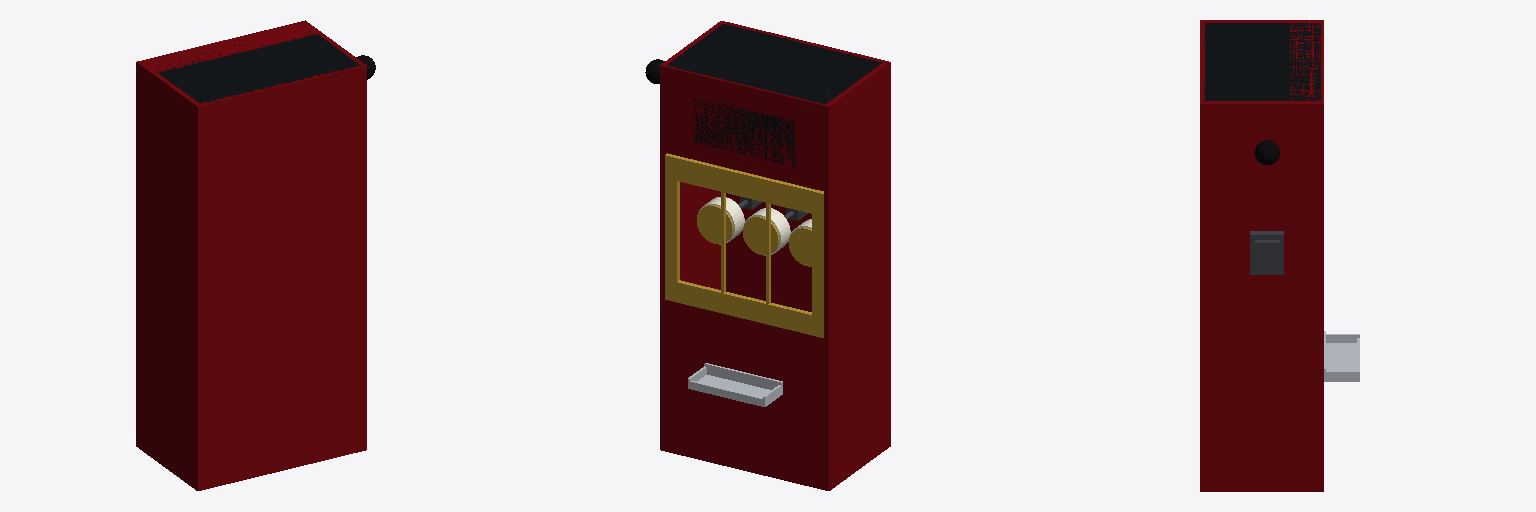
The robot description file, URDF, robot "casino_slot_machine":
<robot name="casino_slot_machine">
  <material name="cabinet_red">
    <color rgba="0.49 0.05 0.08 1" />
    </material>
  <material name="cabinet_black">
    <color rgba="0.09 0.1 0.11 1" />
    </material>
  <material name="brass_trim">
    <color rgba="0.76 0.62 0.22 1" />
    </material>
  <material name="chrome">
    <color rgba="0.77 0.79 0.82 1" />
    </material>
  <material name="dark_steel">
    <color rgba="0.28 0.29 0.31 1" />
    </material>
  <material name="reel_cream">
    <color rgba="0.93 0.92 0.86 1" />
    </material>
  <material name="knob_black">
    <color rgba="0.08 0.08 0.08 1" />
    </material>
  <link name="cabinet">
    <inertial>
      <origin xyz="0 0 0.76" rpy="0 0 0" />
      <mass value="110" />
      <inertia ixx="22.9533" ixy="0" ixz="0" iyy="25.6703" iyz="0" izz="6.26633" />
      </inertial>
    <visual name="left_side_panel">
      <origin xyz="-0.34 0 0.76" rpy="0 0 0" />
      <geometry>
        <box size="0.02 0.44 1.52" />
        </geometry>
      <material name="cabinet_red">
        <color rgba="0.49 0.05 0.08 1" />
        </material>
      </visual>
    <visual name="right_side_panel">
      <origin xyz="0.34 0 0.76" rpy="0 0 0" />
      <geometry>
        <box size="0.02 0.44 1.52" />
        </geometry>
      <material name="cabinet_red">
        <color rgba="0.49 0.05 0.08 1" />
        </material>
      </visual>
    <visual name="back_panel">
      <origin xyz="0 -0.21 0.76" rpy="0 0 0" />
      <geometry>
        <box size="0.66 0.02 1.52" />
        </geometry>
      <material name="cabinet_red">
        <color rgba="0.49 0.05 0.08 1" />
        </material>
      </visual>
    <visual name="bottom_panel">
      <origin xyz="0 0 0.01" rpy="0 0 0" />
      <geometry>
        <box size="0.66 0.4 0.02" />
        </geometry>
      <material name="cabinet_black">
        <color rgba="0.09 0.1 0.11 1" />
        </material>
      </visual>
    <visual name="roof_panel">
      <origin xyz="0 0 1.51" rpy="0 0 0" />
      <geometry>
        <box size="0.66 0.42 0.02" />
        </geometry>
      <material name="cabinet_black">
        <color rgba="0.09 0.1 0.11 1" />
        </material>
      </visual>
    <visual name="front_lower_panel">
      <origin xyz="0 0.21 0.3" rpy="0 0 0" />
      <geometry>
        <box size="0.66 0.02 0.6" />
        </geometry>
      <material name="cabinet_red">
        <color rgba="0.49 0.05 0.08 1" />
        </material>
      </visual>
    <visual name="window_sill">
      <origin xyz="0 0.21 0.64" rpy="0 0 0" />
      <geometry>
        <box size="0.66 0.02 0.08" />
        </geometry>
      <material name="brass_trim">
        <color rgba="0.76 0.62 0.22 1" />
        </material>
      </visual>
    <visual name="left_jamb">
      <origin xyz="-0.305 0.21 0.88" rpy="0 0 0" />
      <geometry>
        <box size="0.05 0.02 0.4" />
        </geometry>
      <material name="brass_trim">
        <color rgba="0.76 0.62 0.22 1" />
        </material>
      </visual>
    <visual name="right_jamb">
      <origin xyz="0.305 0.21 0.88" rpy="0 0 0" />
      <geometry>
        <box size="0.05 0.02 0.4" />
        </geometry>
      <material name="brass_trim">
        <color rgba="0.76 0.62 0.22 1" />
        </material>
      </visual>
    <visual name="separator_left">
      <origin xyz="-0.093 0.208 0.88" rpy="0 0 0" />
      <geometry>
        <box size="0.014 0.016 0.4" />
        </geometry>
      <material name="brass_trim">
        <color rgba="0.76 0.62 0.22 1" />
        </material>
      </visual>
    <visual name="separator_right">
      <origin xyz="0.093 0.208 0.88" rpy="0 0 0" />
      <geometry>
        <box size="0.014 0.016 0.4" />
        </geometry>
      <material name="brass_trim">
        <color rgba="0.76 0.62 0.22 1" />
        </material>
      </visual>
    <visual name="window_brow">
      <origin xyz="0 0.21 1.125" rpy="0 0 0" />
      <geometry>
        <box size="0.66 0.02 0.09" />
        </geometry>
      <material name="brass_trim">
        <color rgba="0.76 0.62 0.22 1" />
        </material>
      </visual>
    <visual name="upper_front_marquee">
      <origin xyz="0 0.16 1.35" rpy="0 0 0" />
      <geometry>
        <box size="0.66 0.12 0.34" />
        </geometry>
      <material name="cabinet_red">
        <color rgba="0.49 0.05 0.08 1" />
        </material>
      </visual>
    <visual name="marquee_panel">
      <origin xyz="0 0.214 1.34" rpy="0 0 0" />
      <geometry>
        <box size="0.42 0.012 0.18" />
        </geometry>
      <material name="cabinet_black">
        <color rgba="0.09 0.1 0.11 1" />
        </material>
      </visual>
    <visual name="handle_mount_pad">
      <origin xyz="0.364 0.02 0.94" rpy="0 0 0" />
      <geometry>
        <box size="0.028 0.12 0.16" />
        </geometry>
      <material name="dark_steel">
        <color rgba="0.28 0.29 0.31 1" />
        </material>
      </visual>
    <visual name="left_reel_bearing">
      <origin xyz="-0.19 -0.16 0.88" rpy="0 0 0" />
      <geometry>
        <box size="0.05 0.08 0.05" />
        </geometry>
      <material name="dark_steel">
        <color rgba="0.28 0.29 0.31 1" />
        </material>
      </visual>
    <visual name="center_reel_bearing">
      <origin xyz="0 -0.16 0.88" rpy="0 0 0" />
      <geometry>
        <box size="0.05 0.08 0.05" />
        </geometry>
      <material name="dark_steel">
        <color rgba="0.28 0.29 0.31 1" />
        </material>
      </visual>
    <visual name="right_reel_bearing">
      <origin xyz="0.19 -0.16 0.88" rpy="0 0 0" />
      <geometry>
        <box size="0.05 0.08 0.05" />
        </geometry>
      <material name="dark_steel">
        <color rgba="0.28 0.29 0.31 1" />
        </material>
      </visual>
    </link>
  <link name="coin_tray">
    <inertial>
      <origin xyz="0 0.055 0.025" rpy="0 0 0" />
      <mass value="2.5" />
      <inertia ixx="0.00427083" ixy="0" ixz="0" iyy="0.0220833" iyz="0" izz="0.0248542" />
      </inertial>
    <visual name="mount_flange">
      <origin xyz="0 -0.005 0.025" rpy="0 0 0" />
      <geometry>
        <box size="0.32 0.01 0.05" />
        </geometry>
      <material name="chrome">
        <color rgba="0.77 0.79 0.82 1" />
        </material>
      </visual>
    <visual name="tray_floor">
      <origin xyz="0 0.06 0.005" rpy="0 0 0" />
      <geometry>
        <box size="0.32 0.12 0.01" />
        </geometry>
      <material name="chrome">
        <color rgba="0.77 0.79 0.82 1" />
        </material>
      </visual>
    <visual name="left_tray_wall">
      <origin xyz="-0.155 0.06 0.02" rpy="0 0 0" />
      <geometry>
        <box size="0.01 0.12 0.04" />
        </geometry>
      <material name="chrome">
        <color rgba="0.77 0.79 0.82 1" />
        </material>
      </visual>
    <visual name="right_tray_wall">
      <origin xyz="0.155 0.06 0.02" rpy="0 0 0" />
      <geometry>
        <box size="0.01 0.12 0.04" />
        </geometry>
      <material name="chrome">
        <color rgba="0.77 0.79 0.82 1" />
        </material>
      </visual>
    <visual name="front_lip">
      <origin xyz="0 0.115 0.015" rpy="0 0 0" />
      <geometry>
        <box size="0.32 0.01 0.03" />
        </geometry>
      <material name="chrome">
        <color rgba="0.77 0.79 0.82 1" />
        </material>
      </visual>
    </link>
  <link name="pull_handle">
    <inertial>
      <origin xyz="0.05 0 0.24" rpy="0 0 0" />
      <mass value="3" />
      <inertia ixx="0.0701" ixy="0" ixz="0" iyy="0.0712" iyz="0" izz="0.0061" />
      </inertial>
    <visual name="hub_block">
      <origin xyz="0.014 0 0.03" rpy="0 0 0" />
      <geometry>
        <box size="0.028 0.09 0.06" />
        </geometry>
      <material name="dark_steel">
        <color rgba="0.28 0.29 0.31 1" />
        </material>
      </visual>
    <visual name="handle_arm">
      <geometry>
        <mesh filename="assets/meshes/slot_handle_arm.obj" />
        </geometry>
      <material name="chrome">
        <color rgba="0.77 0.79 0.82 1" />
        </material>
      </visual>
    <visual name="handle_knob">
      <origin xyz="0.095 0 0.445" rpy="0 0 0" />
      <geometry>
        <sphere radius="0.045" />
        </geometry>
      <material name="knob_black">
        <color rgba="0.08 0.08 0.08 1" />
        </material>
      </visual>
    </link>
  <link name="left_reel">
    <inertial>
      <origin xyz="0 -0.0725 0" rpy="1.5708 0 0" />
      <mass value="2.8" />
      <inertia ixx="0.0151545" ixy="0" ixz="0" iyy="0.0151545" iyz="0" izz="0.0087374" />
      </inertial>
    <visual name="drum">
      <origin xyz="0 0 0" rpy="1.5708 0 0" />
      <geometry>
        <cylinder radius="0.079" length="0.07" />
        </geometry>
      <material name="reel_cream">
        <color rgba="0.93 0.92 0.86 1" />
        </material>
      </visual>
    <visual name="axle">
      <origin xyz="0 -0.1075 0" rpy="1.5708 0 0" />
      <geometry>
        <cylinder radius="0.01" length="0.145" />
        </geometry>
      <material name="dark_steel">
        <color rgba="0.28 0.29 0.31 1" />
        </material>
      </visual>
    <visual name="front_ring">
      <origin xyz="0 0.04 0" rpy="1.5708 0 0" />
      <geometry>
        <cylinder radius="0.074" length="0.01" />
        </geometry>
      <material name="brass_trim">
        <color rgba="0.76 0.62 0.22 1" />
        </material>
      </visual>
    </link>
  <link name="center_reel">
    <inertial>
      <origin xyz="0 -0.0725 0" rpy="1.5708 0 0" />
      <mass value="2.8" />
      <inertia ixx="0.0151545" ixy="0" ixz="0" iyy="0.0151545" iyz="0" izz="0.0087374" />
      </inertial>
    <visual name="drum">
      <origin xyz="0 0 0" rpy="1.5708 0 0" />
      <geometry>
        <cylinder radius="0.079" length="0.07" />
        </geometry>
      <material name="reel_cream">
        <color rgba="0.93 0.92 0.86 1" />
        </material>
      </visual>
    <visual name="axle">
      <origin xyz="0 -0.1075 0" rpy="1.5708 0 0" />
      <geometry>
        <cylinder radius="0.01" length="0.145" />
        </geometry>
      <material name="dark_steel">
        <color rgba="0.28 0.29 0.31 1" />
        </material>
      </visual>
    <visual name="front_ring">
      <origin xyz="0 0.04 0" rpy="1.5708 0 0" />
      <geometry>
        <cylinder radius="0.074" length="0.01" />
        </geometry>
      <material name="brass_trim">
        <color rgba="0.76 0.62 0.22 1" />
        </material>
      </visual>
    </link>
  <link name="right_reel">
    <inertial>
      <origin xyz="0 -0.0725 0" rpy="1.5708 0 0" />
      <mass value="2.8" />
      <inertia ixx="0.0151545" ixy="0" ixz="0" iyy="0.0151545" iyz="0" izz="0.0087374" />
      </inertial>
    <visual name="drum">
      <origin xyz="0 0 0" rpy="1.5708 0 0" />
      <geometry>
        <cylinder radius="0.079" length="0.07" />
        </geometry>
      <material name="reel_cream">
        <color rgba="0.93 0.92 0.86 1" />
        </material>
      </visual>
    <visual name="axle">
      <origin xyz="0 -0.1075 0" rpy="1.5708 0 0" />
      <geometry>
        <cylinder radius="0.01" length="0.145" />
        </geometry>
      <material name="dark_steel">
        <color rgba="0.28 0.29 0.31 1" />
        </material>
      </visual>
    <visual name="front_ring">
      <origin xyz="0 0.04 0" rpy="1.5708 0 0" />
      <geometry>
        <cylinder radius="0.074" length="0.01" />
        </geometry>
      <material name="brass_trim">
        <color rgba="0.76 0.62 0.22 1" />
        </material>
      </visual>
    </link>
  <joint name="cabinet_to_coin_tray" type="fixed">
    <origin xyz="0 0.23 0.34" rpy="0 0 0" />
    <parent link="cabinet" />
    <child link="coin_tray" />
    </joint>
  <joint name="cabinet_to_pull_handle" type="revolute">
    <origin xyz="0.378 0.02 0.94" rpy="0 0 0" />
    <parent link="cabinet" />
    <child link="pull_handle" />
    <axis xyz="0 1 0" />
    <limit effort="18" velocity="2" lower="0" upper="1.05" />
    </joint>
  <joint name="left_reel_spin" type="continuous">
    <origin xyz="-0.19 0.06 0.88" rpy="0 0 0" />
    <parent link="cabinet" />
    <child link="left_reel" />
    <axis xyz="0 1 0" />
    <limit effort="3" velocity="25" />
    </joint>
  <joint name="center_reel_spin" type="continuous">
    <origin xyz="0 0.06 0.88" rpy="0 0 0" />
    <parent link="cabinet" />
    <child link="center_reel" />
    <axis xyz="0 1 0" />
    <limit effort="3" velocity="25" />
    </joint>
  <joint name="right_reel_spin" type="continuous">
    <origin xyz="0.19 0.06 0.88" rpy="0 0 0" />
    <parent link="cabinet" />
    <child link="right_reel" />
    <axis xyz="0 1 0" />
    <limit effort="3" velocity="25" />
    </joint>
  </robot>

--- Render facts (derived) ---
Views: 3 orthographic renders of the robot side by side, from view 1: azimuth 30°, elevation 25°; view 2: azimuth 150°, elevation 25°; view 3: azimuth 270°, elevation 25°.
Robot: casino_slot_machine — 6 links, 5 joints (1 revolute, 3 continuous, 1 fixed); root link cabinet; default pose: all joints at 0.
Links seen in each view (by area): view 1: cabinet; view 2: cabinet, coin_tray, center_reel, right_reel, left_reel; view 3: cabinet, coin_tray, pull_handle.
Boxes of the visible links, x1=… form: cabinet: x1=136, y1=20, x2=366, y2=490; cabinet: x1=660, y1=21, x2=890, y2=490; coin_tray: x1=688, y1=363, x2=782, y2=406; center_reel: x1=743, y1=208, x2=793, y2=255; right_reel: x1=697, y1=197, x2=747, y2=244; left_reel: x1=789, y1=219, x2=811, y2=266; cabinet: x1=1200, y1=20, x2=1323, y2=491; coin_tray: x1=1324, y1=331, x2=1359, y2=381; pull_handle: x1=1255, y1=140, x2=1279, y2=257.
Bounding box of the posed robot: 0.868 × 0.57 × 1.52 m (x, y, z).
0 mesh visuals loaded from 1 distinct referenced files (none loaded); not drawn: 1 (reference not matched to a file when rendering).
